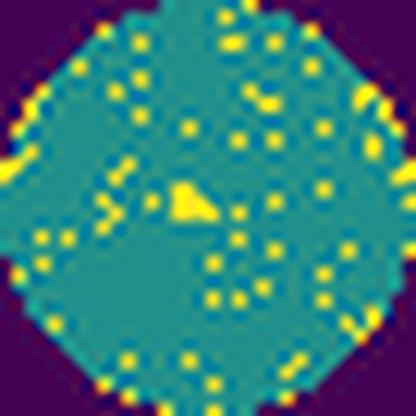Center: (166, 178, 219, 230)
